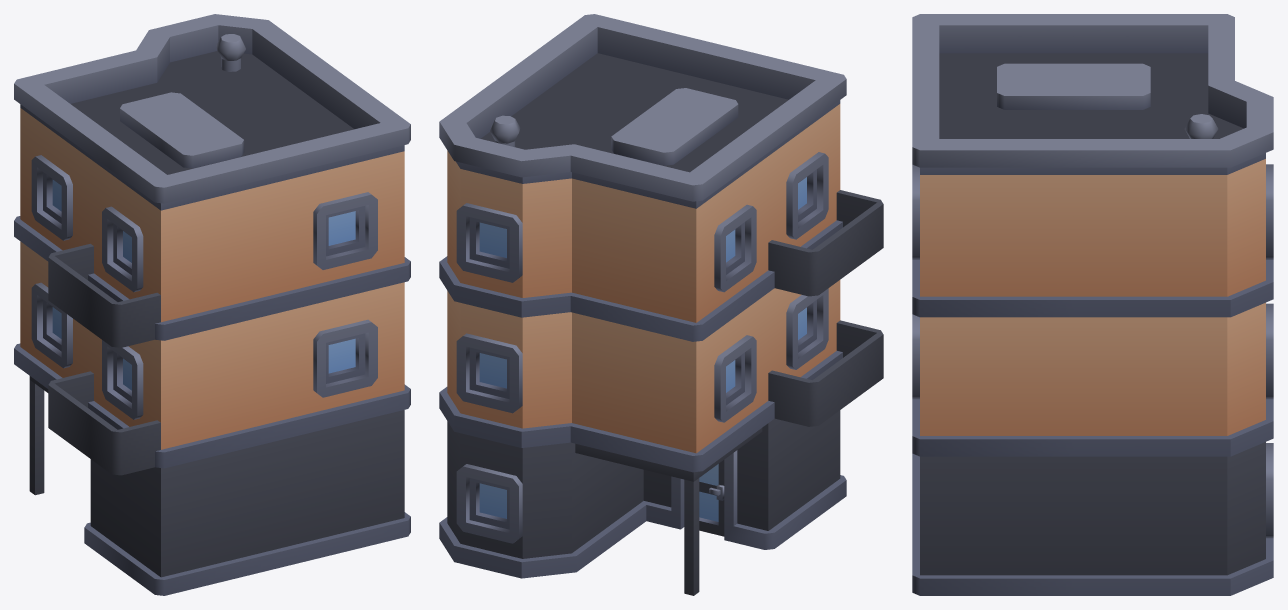
Rendered from building-b.glb.
3 views of the same model, side by side, from view 1: azimuth 30°, elevation 25°; view 2: azimuth 150°, elevation 25°; view 3: azimuth 270°, elevation 25° (orthographic). The views are drawn at different scales.
Visible parts, largest first — view 1: building-b; view 2: building-b; view 3: building-b.
Part boxes in pixels (left/top/right/bottom): building-b: left=14, top=14, right=410, bottom=595; building-b: left=439, top=14, right=883, bottom=595; building-b: left=912, top=14, right=1273, bottom=595.
Size of the model in its own units: 0.97 by 1.29 by 0.94.
Materials: 1 (1 with a texture image).
